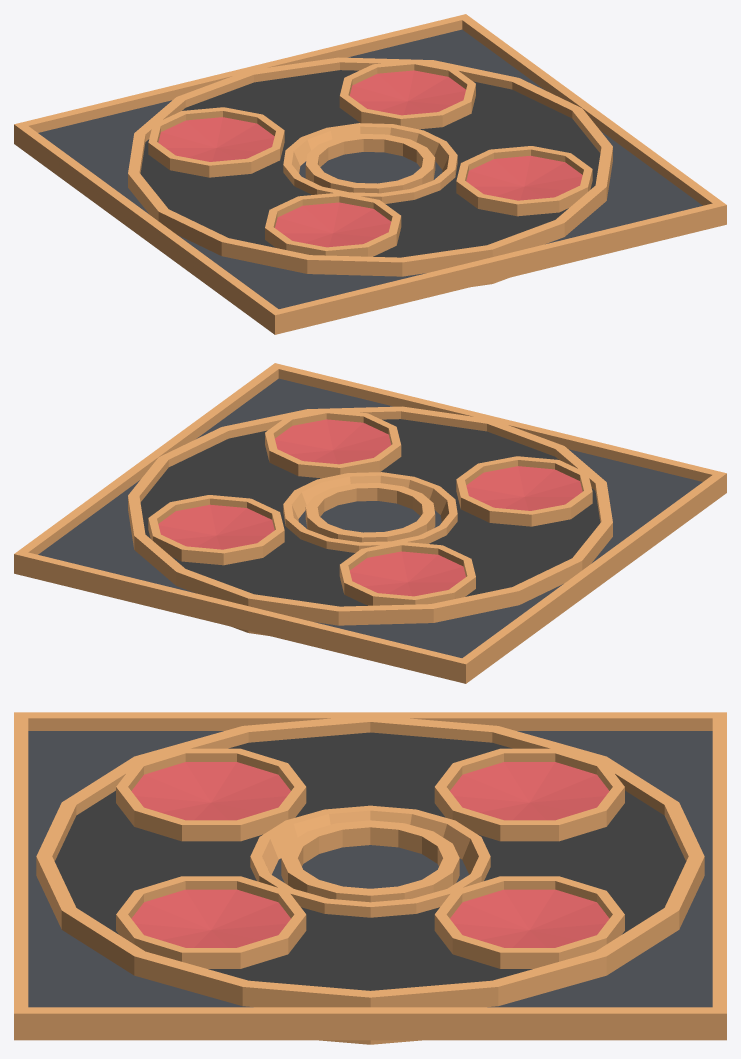
Rendered from spike_gimmic_lower.fbx.
3 renders of one model, top to bottom at view 1: azimuth 30°, elevation 25°; view 2: azimuth 150°, elevation 25°; view 3: azimuth 270°, elevation 25°, orthographic. The views are drawn at different scales.
Parts seen in each view (by area): view 1: Mesh; view 2: Mesh; view 3: Mesh.
Boxes of the visible parts, box(x1,y1,x2,y2) form: Mesh: box(14, 14, 726, 334); Mesh: box(14, 363, 726, 683); Mesh: box(14, 712, 726, 1044).
Bounding box in the file's own units: 1 × 0.1234 × 1.
